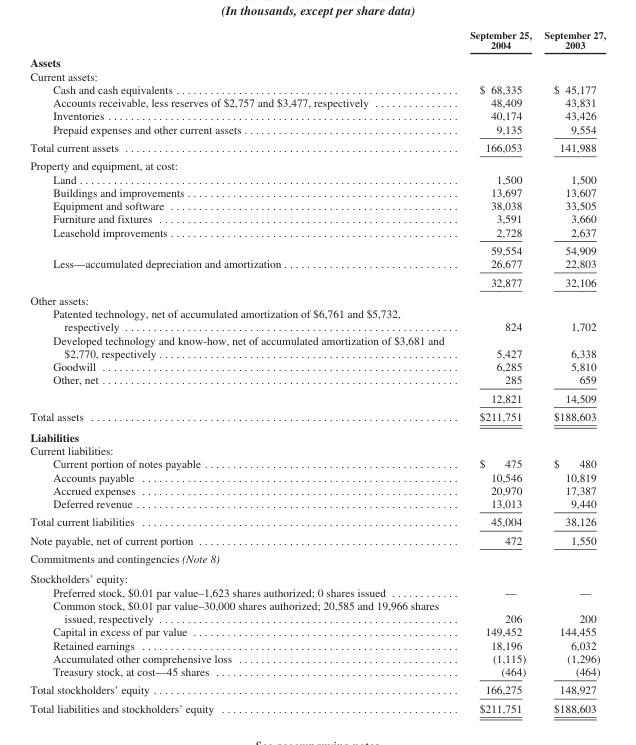table: (29, 28, 605, 714)
table column: (29, 28, 456, 714), (456, 28, 537, 714), (537, 28, 605, 714)
table column header: (29, 28, 605, 53)
table projected row header: (29, 549, 605, 568), (29, 426, 605, 443), (29, 568, 605, 585), (29, 53, 605, 69), (29, 156, 605, 172), (29, 290, 605, 306), (29, 69, 605, 82), (29, 443, 605, 456)
table row: (29, 306, 605, 333), (29, 333, 605, 359), (29, 598, 605, 624), (29, 28, 605, 53), (29, 406, 605, 426), (29, 530, 605, 549), (29, 549, 605, 568), (29, 138, 605, 156), (29, 272, 605, 290), (29, 388, 605, 406), (29, 512, 605, 530), (29, 680, 605, 698), (29, 426, 605, 443), (29, 568, 605, 585), (29, 53, 605, 69), (29, 122, 605, 138), (29, 156, 605, 172), (29, 240, 605, 256), (29, 256, 605, 272), (29, 290, 605, 306), (29, 372, 605, 388), (29, 496, 605, 512), (29, 664, 605, 680), (29, 698, 605, 714), (29, 225, 605, 240), (29, 108, 605, 122), (29, 211, 605, 225), (29, 456, 605, 470), (29, 624, 605, 638), (29, 69, 605, 82), (29, 82, 605, 95), (29, 95, 605, 108), (29, 172, 605, 185), (29, 185, 605, 198), (29, 198, 605, 211), (29, 359, 605, 372), (29, 443, 605, 456), (29, 470, 605, 483), (29, 483, 605, 496), (29, 585, 605, 598), (29, 638, 605, 651), (29, 651, 605, 664)
